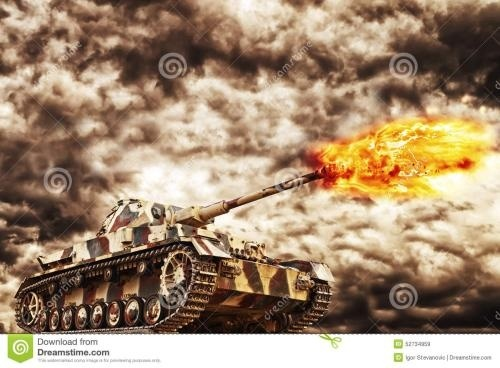fire: (317, 107, 499, 199)
